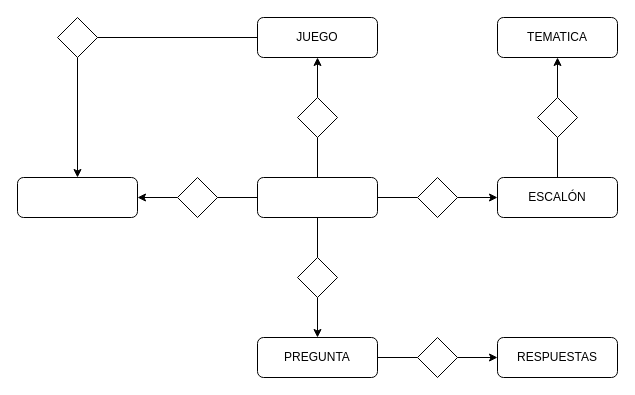
Image size: 635x395. Some labels were removed from this diagram. The shapes that lost their labels are listed below. From the top down, each one's box as (x1, y1, x2, y2) in pixels, then its label:
(16, 176, 138, 218): JUGADOR
(256, 176, 378, 218): RONDA
